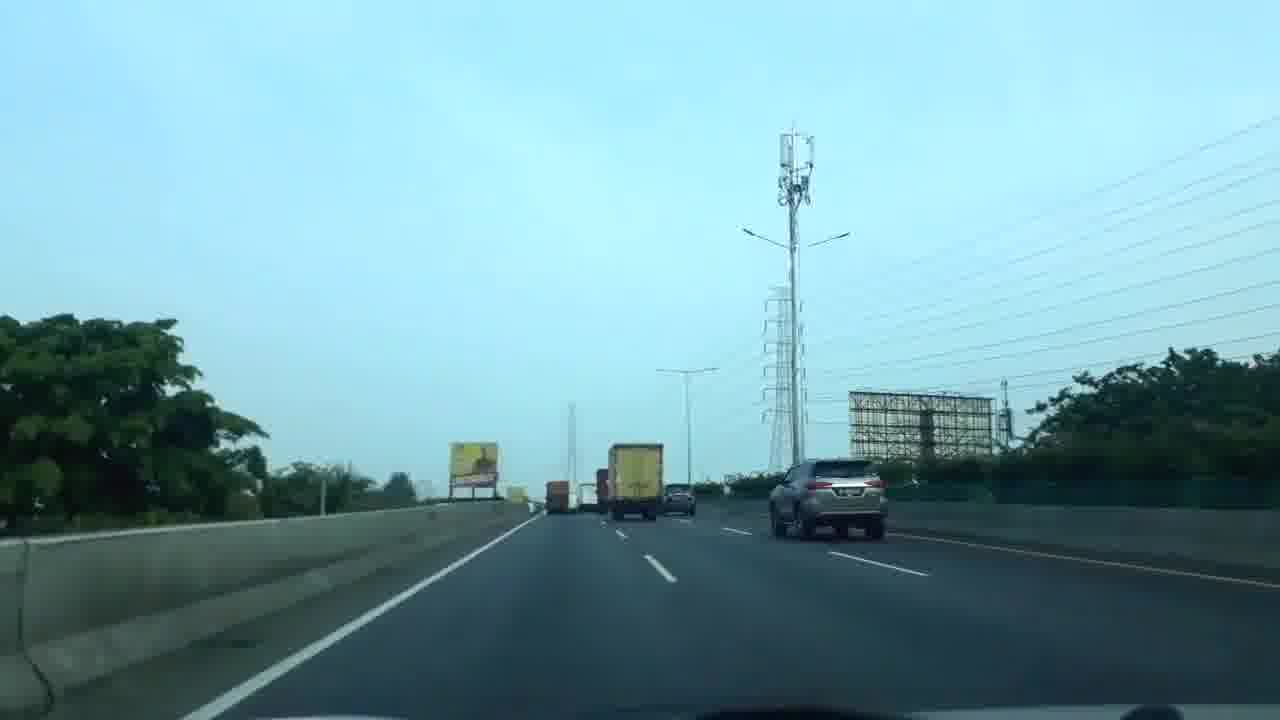plate_positive: (836, 488, 862, 496)
